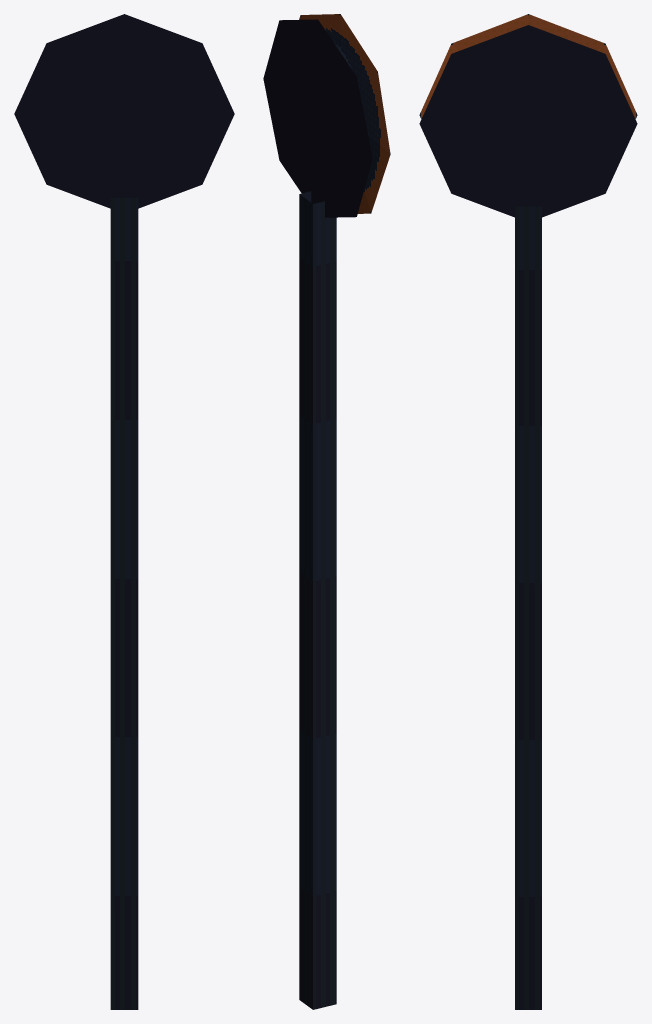
The model's file is street_curvemirror.glb.
The picture shows the model from 3 angles, left to right: view 1: azimuth 90°, elevation 25°; view 2: azimuth 210°, elevation 25°; view 3: azimuth 270°, elevation 25°; orthographic projection.
Visible parts, largest first — view 1: street_curvemirror; view 2: street_curvemirror; view 3: street_curvemirror.
Part boxes in pixels (x1=…): street_curvemirror: x1=14, y1=14, x2=234, y2=1009; street_curvemirror: x1=263, y1=14, x2=390, y2=1009; street_curvemirror: x1=419, y1=14, x2=637, y2=1009.
Size of the model in its own units: 0.12 by 3.17 by 0.64.
1 material, 1 textured.
